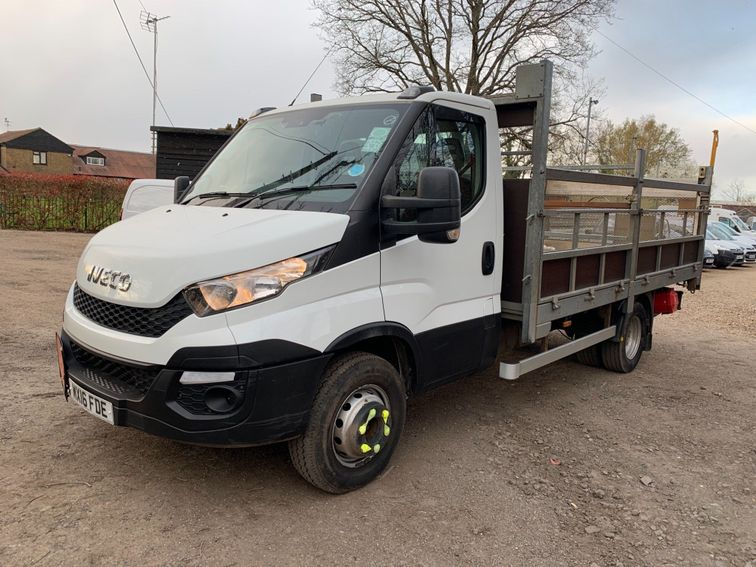Semi: (54, 58, 718, 493)
